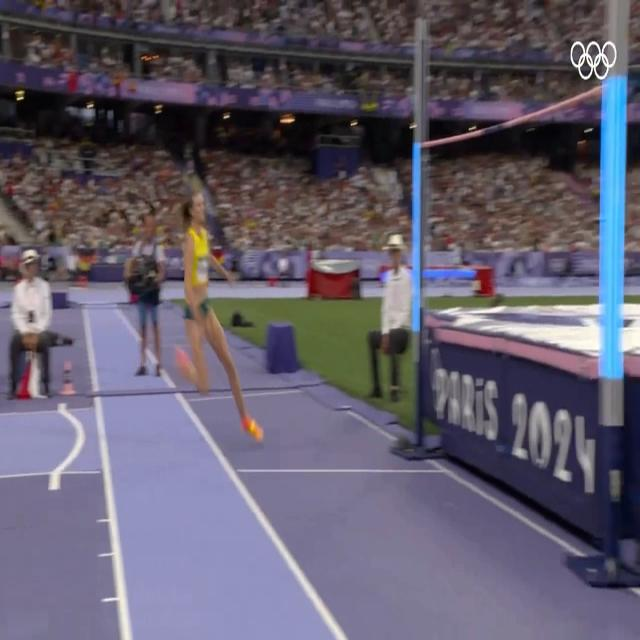run: (175, 192, 262, 442)
